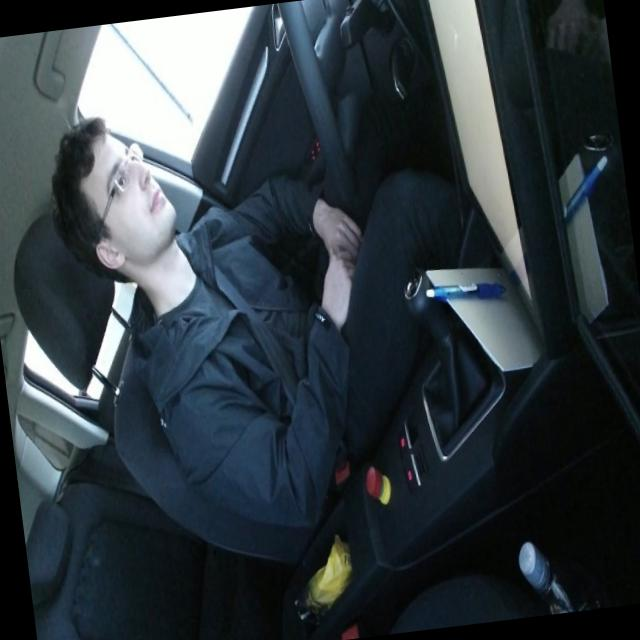pen: (424, 274, 506, 306)
